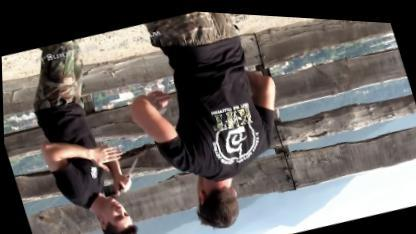knife: (103, 150, 151, 198)
